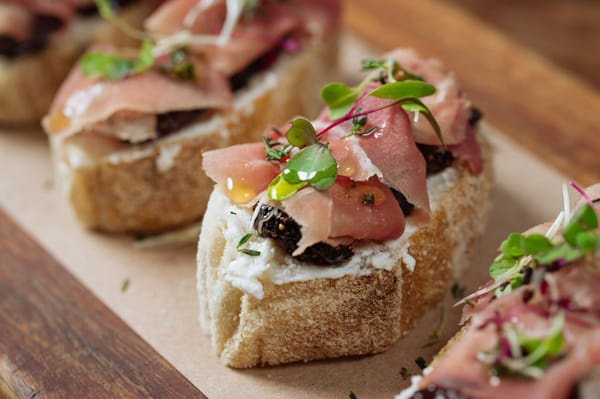soup: (195, 47, 500, 370), (36, 2, 346, 237), (409, 184, 600, 395), (0, 2, 104, 129)
